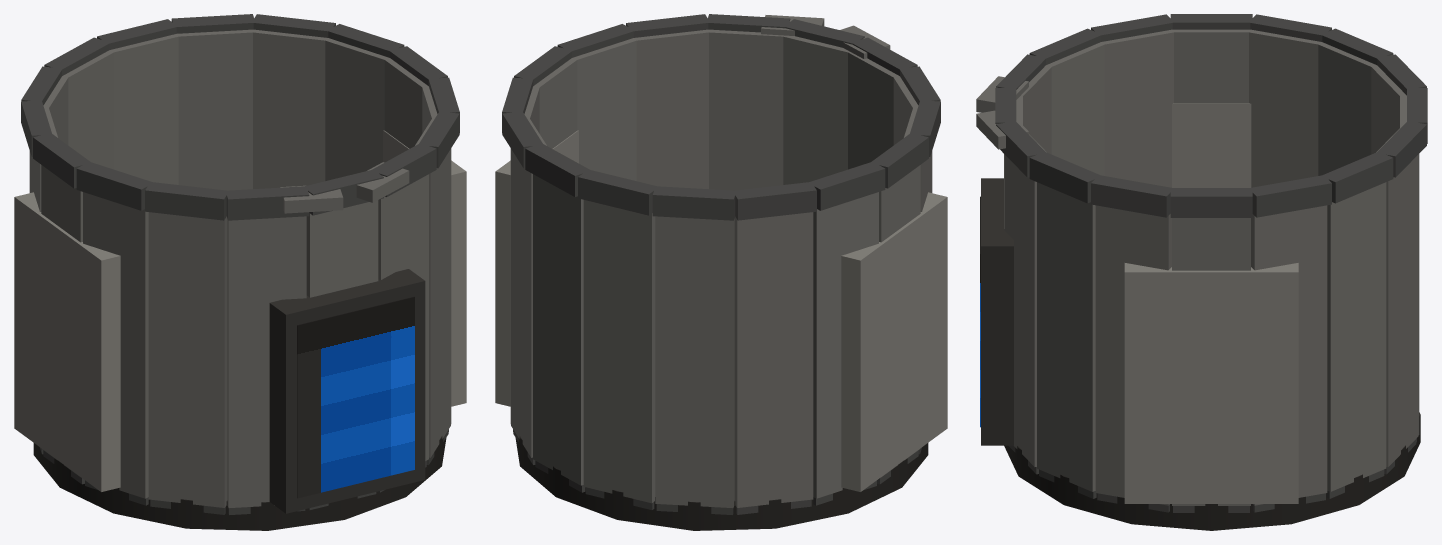
Rendered from CMU3DRMCBeakerHighCapacityMedicalSmallCloud.glb.
3 renders of one model, left to right at view 1: azimuth 30°, elevation 25°; view 2: azimuth 150°, elevation 25°; view 3: azimuth 270°, elevation 25°, orthographic.
Visible parts, largest first — view 1: left raised protective rib, thin hollow vessel wall 10, original blue capacity window, thin hollow vessel wall 11, front recessed blue gauge bezel, thin hollow vessel wall 03, thin hollow vessel wall 02, thin hollow vessel wall 09, thin hollow vessel wall 04, closed vessel floor, thin hollow vessel wall 01, thin hollow vessel wall 14 (+27 smaller); view 2: left raised protective rib, thin hollow vessel wall 05, thin hollow vessel wall 06, thin hollow vessel wall 04, thin hollow vessel wall 03, thin hollow vessel wall 13, thin hollow vessel wall 14, thin hollow vessel wall 07, thin hollow vessel wall 12, closed vessel floor, thin hollow vessel wall 15, thin hollow vessel wall 02 (+24 smaller); view 3: right raised protective rib, thin hollow vessel wall 02, thin hollow vessel wall 14, thin hollow vessel wall 01, thin hollow vessel wall 15, thin hollow vessel wall 07, thin hollow vessel wall 09, thin hollow vessel wall 03, front recessed blue gauge bezel, closed vessel floor, thin hollow vessel wall 13, left raised protective rib (+25 smaller).
Boxes of the visible parts, x1,y1,x2,y2 form: left raised protective rib: [14, 192, 120, 491]; thin hollow vessel wall 10: [148, 212, 227, 507]; original blue capacity window: [297, 296, 414, 498]; thin hollow vessel wall 11: [227, 216, 306, 507]; front recessed blue gauge bezel: [269, 269, 425, 513]; thin hollow vessel wall 03: [176, 29, 254, 190]; thin hollow vessel wall 02: [252, 29, 328, 188]; thin hollow vessel wall 09: [83, 192, 148, 498]; thin hollow vessel wall 04: [110, 34, 179, 184]; closed vessel floor: [33, 436, 446, 530]; thin hollow vessel wall 01: [324, 38, 389, 180]; thin hollow vessel wall 14: [415, 118, 450, 457]; left raised protective rib: [841, 192, 947, 491]; thin hollow vessel wall 05: [655, 216, 734, 507]; thin hollow vessel wall 06: [734, 212, 813, 507]; thin hollow vessel wall 04: [583, 200, 655, 503]; thin hollow vessel wall 03: [533, 174, 583, 485]; thin hollow vessel wall 13: [707, 29, 783, 190]; thin hollow vessel wall 14: [633, 29, 709, 188]; thin hollow vessel wall 07: [813, 192, 878, 498]; thin hollow vessel wall 12: [782, 35, 848, 184]; closed vessel floor: [515, 436, 928, 530]; thin hollow vessel wall 15: [572, 38, 637, 180]; thin hollow vessel wall 02: [511, 119, 546, 457]; right raised protective rib: [1124, 263, 1298, 503]; thin hollow vessel wall 02: [1327, 182, 1386, 491]; thin hollow vessel wall 14: [1037, 182, 1095, 491]; thin hollow vessel wall 01: [1251, 205, 1327, 505]; thin hollow vessel wall 15: [1095, 205, 1171, 505]; thin hollow vessel wall 07: [1248, 29, 1320, 187]; thin hollow vessel wall 09: [1101, 29, 1174, 187]; thin hollow vessel wall 03: [1376, 128, 1418, 466]; front recessed blue gauge bezel: [981, 178, 1013, 445]; closed vessel floor: [1004, 412, 1420, 530]; thin hollow vessel wall 13: [1004, 134, 1046, 466]; left raised protective rib: [1172, 103, 1251, 187].
Bounding box in the file's own units: 0.4967 × 0.4275 × 0.5187.
Materials: 6 (1 with a texture image).
